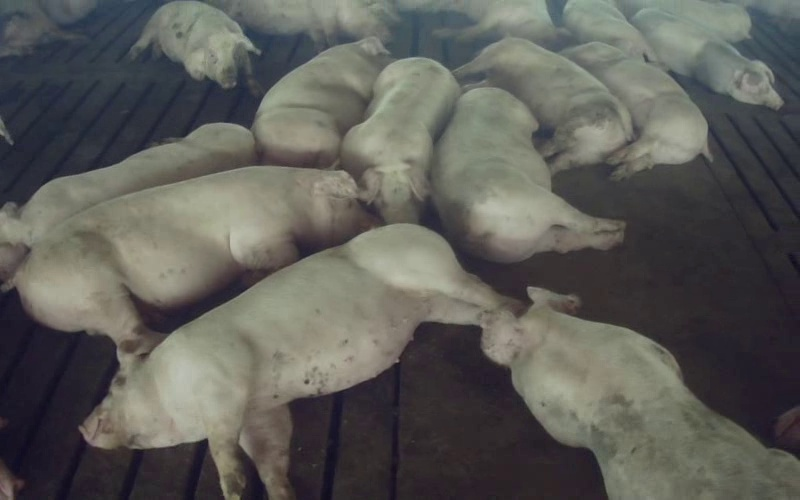pig: (13, 166, 374, 354), (483, 288, 799, 499), (0, 124, 255, 285), (431, 87, 623, 262), (453, 37, 631, 173), (562, 42, 710, 179), (340, 58, 459, 223), (252, 37, 390, 168), (631, 8, 782, 109), (128, 2, 259, 91), (206, 0, 398, 49), (434, 0, 569, 49), (563, 0, 655, 60)
